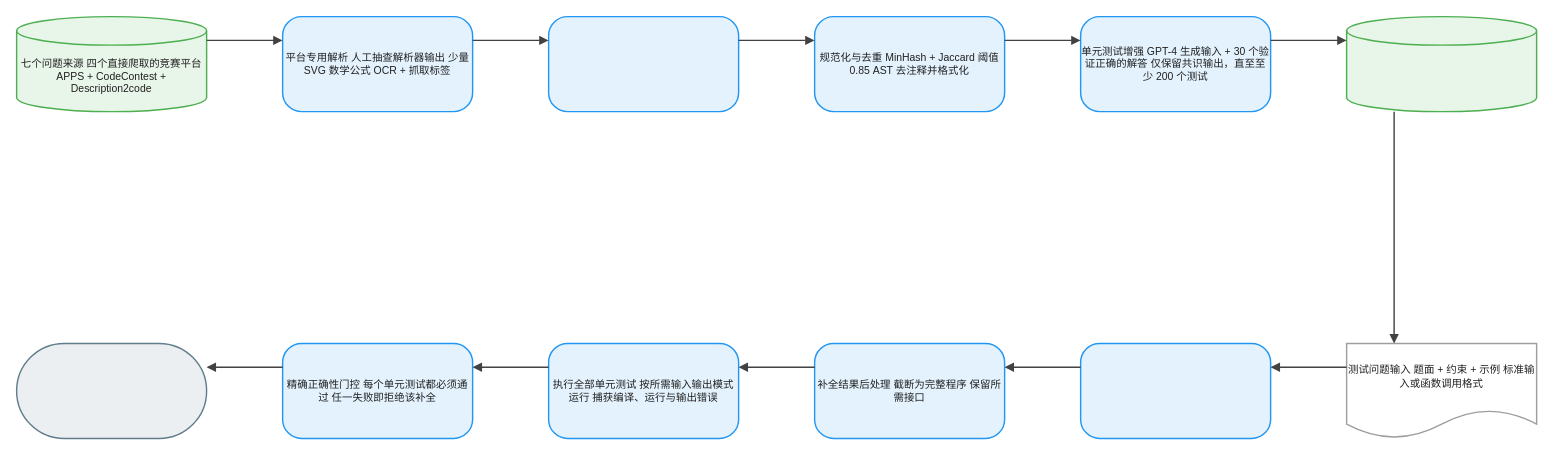
The diagram is 1554 pixels wide and 456 high, and some of its shapes have lost their labels. The centre of each missing label's shape, as x and y in pixels:
TACO 发布集 25,443 个训练 + 1,000 个测试问题 1,539,152 个解答；36 类算法 + 8 项技能: the point at 1441,63
TACO 结果 Pass@1 / Pass@10 / Pass@100 按难度与编程技能分组: the point at 111,390
可执行解答门控 在测试上运行新爬取解答 用 2to3 转换 Python 2；排除失败项: the point at 643,63
每题采样 200 次 top_p = 0.95 按难度使用温度 0.2 / 0.6 / 0.8: the point at 1175,390
